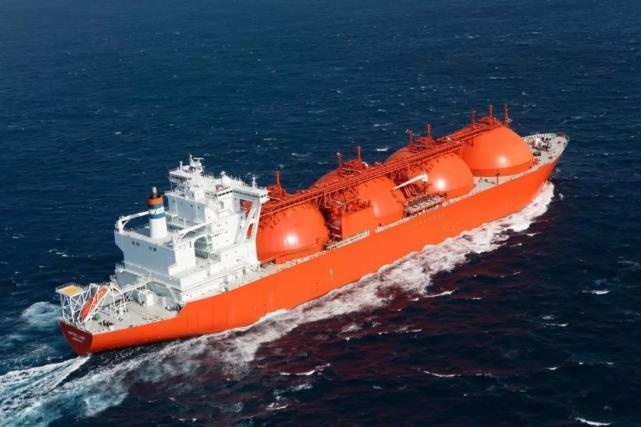Cargoship: (43, 97, 571, 357)
